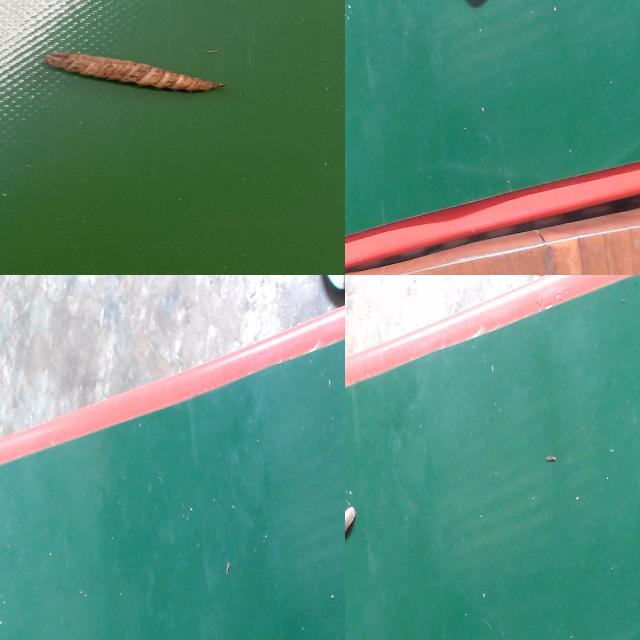Maggot: (45, 53, 222, 95), (345, 506, 357, 542)
